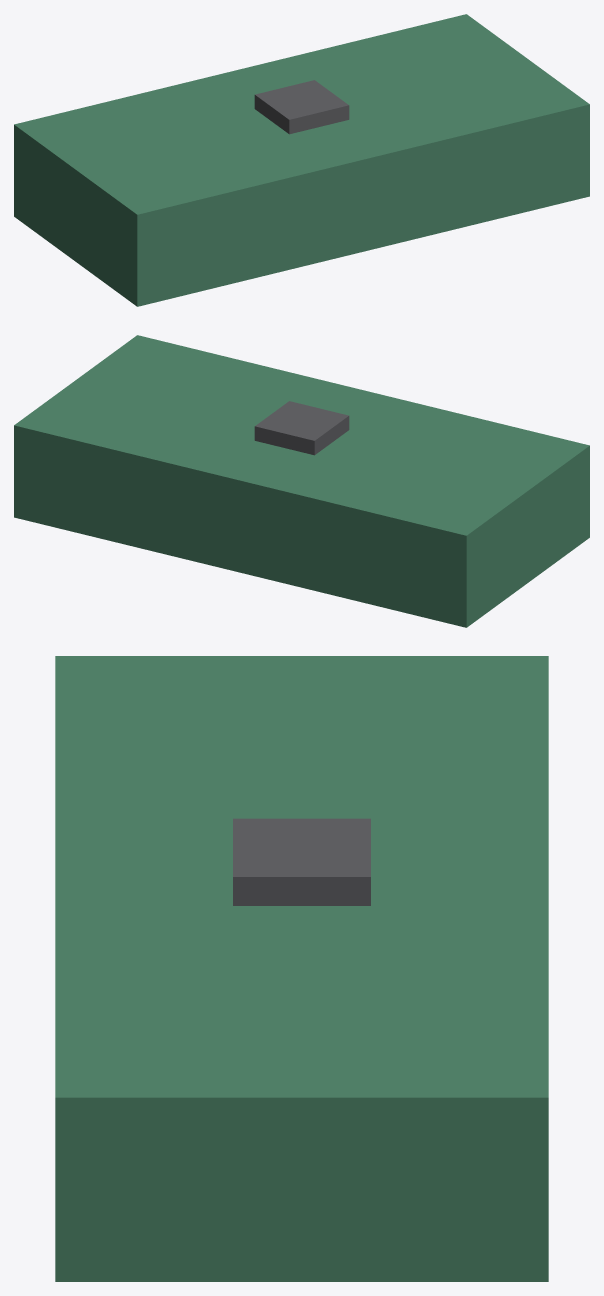
3 views of the same model, one above another, from view 1: azimuth 30°, elevation 25°; view 2: azimuth 150°, elevation 25°; view 3: azimuth 270°, elevation 25° (orthographic). The views are drawn at different scales.
Parts seen in each view (by area): view 1: mt3608-pcb, mt3608-ic; view 2: mt3608-pcb, mt3608-ic; view 3: mt3608-pcb, mt3608-ic.
Boxes of the visible parts, <box> form: mt3608-pcb: <box>14,14,589,306</box>; mt3608-ic: <box>254,80,349,134</box>; mt3608-pcb: <box>14,335,589,627</box>; mt3608-ic: <box>254,401,349,455</box>; mt3608-pcb: <box>55,656,548,1281</box>; mt3608-ic: <box>233,818,370,905</box>.
Size of the model in its own units: 0.036 by 0.0081 by 0.017.
